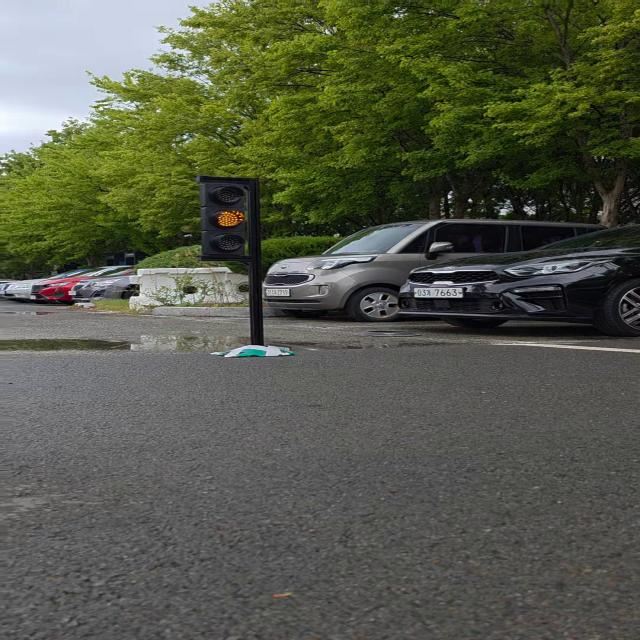yellow: (188, 173, 265, 264)
